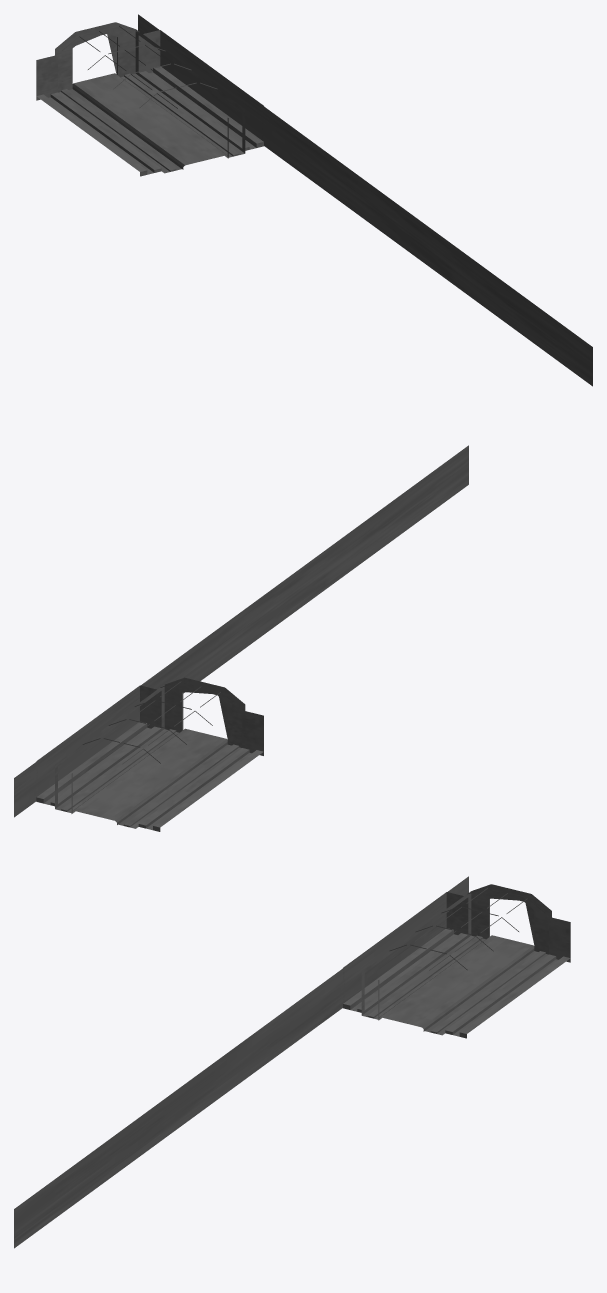
The model's file is catwalk.glb.
3 renders of one model, top to bottom at view 1: azimuth 30°, elevation 25°; view 2: azimuth 150°, elevation 25°; view 3: azimuth 330°, elevation 25°, orthographic.
Visible parts, largest first — view 1: catwalk; view 2: catwalk; view 3: catwalk.
Boxes of the visible parts, x1,y1,x2,y2 form: catwalk: (36, 14, 592, 386); catwalk: (14, 445, 468, 831); catwalk: (14, 876, 570, 1248).
Size of the model in its own units: 0.4715 by 0.208 by 3.
1 material, 1 textured.
